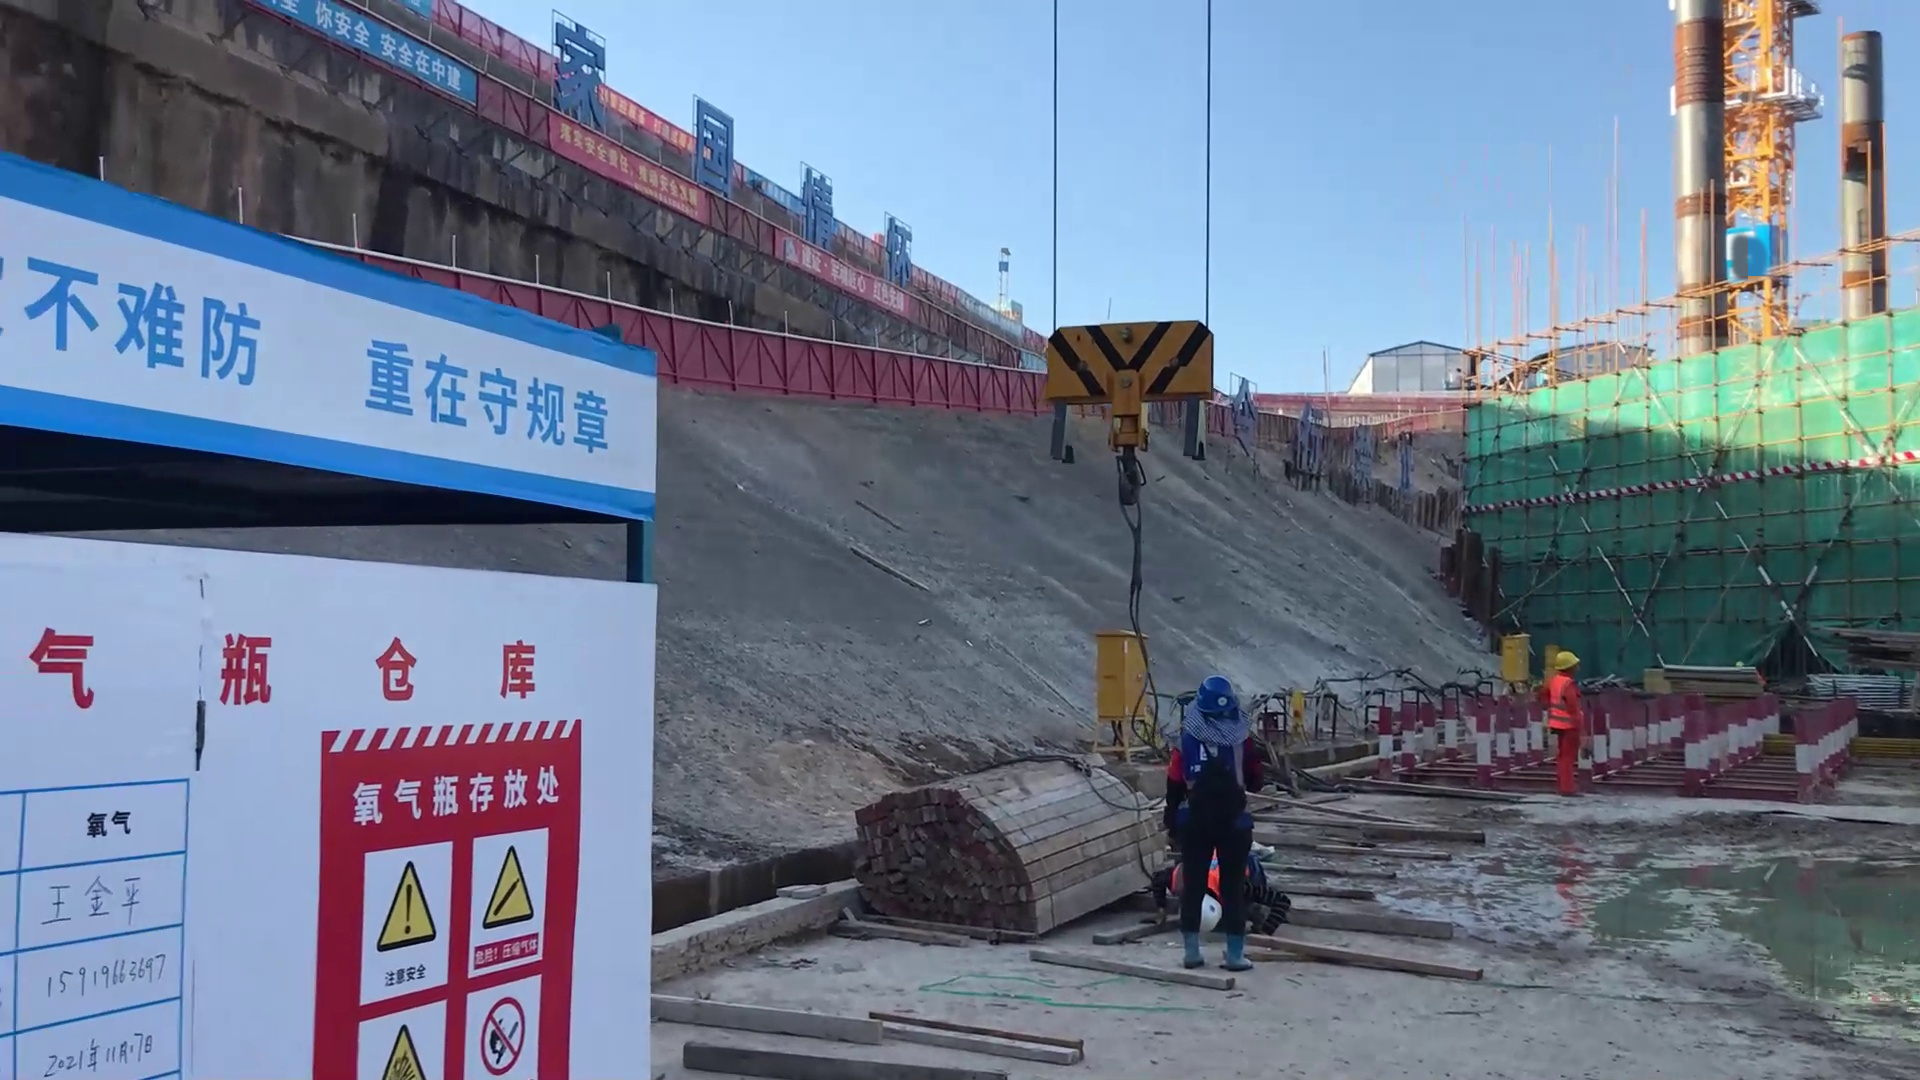ebox: (1089, 612, 1167, 734), (1495, 631, 1533, 686)
fence: (637, 309, 1030, 423)
helmet: (1177, 670, 1247, 741), (1554, 645, 1585, 680)
hook: (1043, 305, 1209, 455)
person: (1164, 678, 1256, 971), (1542, 648, 1587, 799)
slogan: (1, 198, 628, 498), (326, 722, 583, 1080), (238, 1, 480, 126), (537, 126, 695, 245)
vest: (1546, 674, 1582, 730)
wood: (821, 729, 1151, 982)
